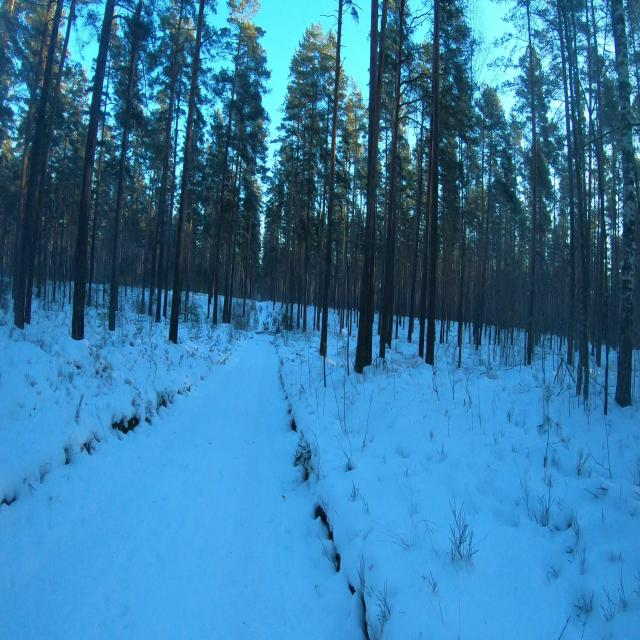trees: (14, 0, 63, 329), (72, 0, 114, 340), (558, 0, 590, 404), (354, 0, 387, 373), (169, 0, 204, 343), (109, 0, 143, 331), (611, 0, 637, 406), (379, 0, 404, 358), (320, 0, 343, 358), (212, 35, 240, 324), (155, 20, 181, 322), (18, 0, 52, 222), (556, 0, 577, 348), (87, 74, 110, 305), (426, 0, 440, 365), (526, 0, 537, 361), (408, 103, 424, 343), (596, 137, 609, 415), (303, 142, 313, 332), (476, 217, 489, 349), (222, 199, 235, 323), (457, 206, 466, 368), (184, 195, 194, 321), (242, 216, 252, 318), (289, 204, 297, 330), (40, 213, 50, 307), (510, 221, 519, 304), (67, 177, 75, 251), (273, 263, 279, 308), (73, 146, 79, 174), (65, 253, 71, 278), (596, 71, 600, 106), (445, 319, 450, 343), (510, 315, 517, 329), (489, 154, 491, 182), (68, 288, 71, 303), (64, 270, 66, 287)
